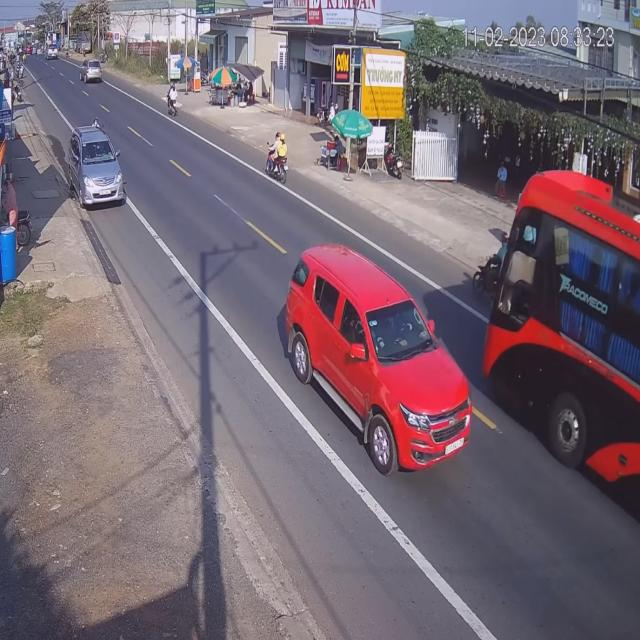bus: (483, 172, 640, 508)
car: (287, 246, 479, 480), (68, 126, 126, 210), (83, 58, 103, 85)
motorbike: (267, 133, 290, 187), (167, 85, 179, 120)
